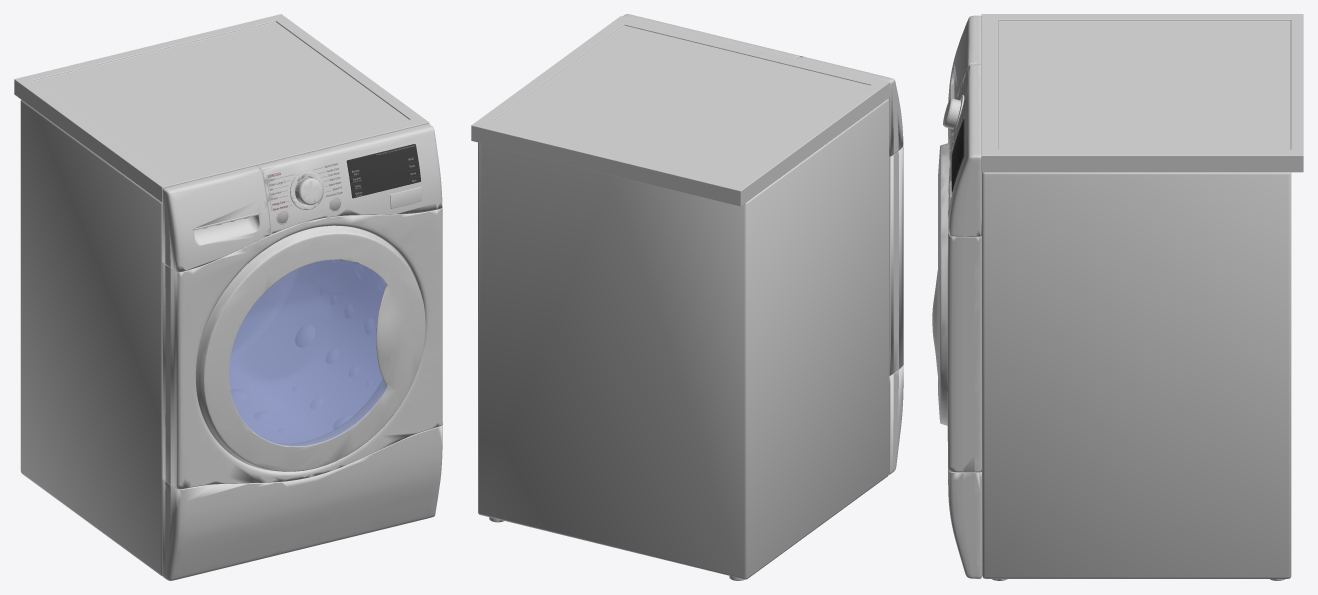
The picture shows the model from 3 angles, left to right: view 1: azimuth 30°, elevation 25°; view 2: azimuth 150°, elevation 25°; view 3: azimuth 270°, elevation 25°; orthographic projection. The views are drawn at different scales.
Visible parts, largest first — view 1: Cylinder.002_Metal_0, Puerta.002_Glass_0, Cube.009_BlackGlass_0; view 2: Cylinder.002_Metal_0; view 3: Cylinder.002_Metal_0, Cube.009_BlackGlass_0.
Part boxes in pixels (<box>): Cylinder.002_Metal_0: <box>14,14,442,580</box>; Puerta.002_Glass_0: <box>229,260,386,446</box>; Cube.009_BlackGlass_0: <box>346,144,420,198</box>; Cylinder.002_Metal_0: <box>471,14,903,580</box>; Cylinder.002_Metal_0: <box>932,14,1303,580</box>; Cube.009_BlackGlass_0: <box>951,119,964,191</box>.
Size of the model in its own units: 490 by 692 by 543.
Materials: 6 (2 with a texture image).
